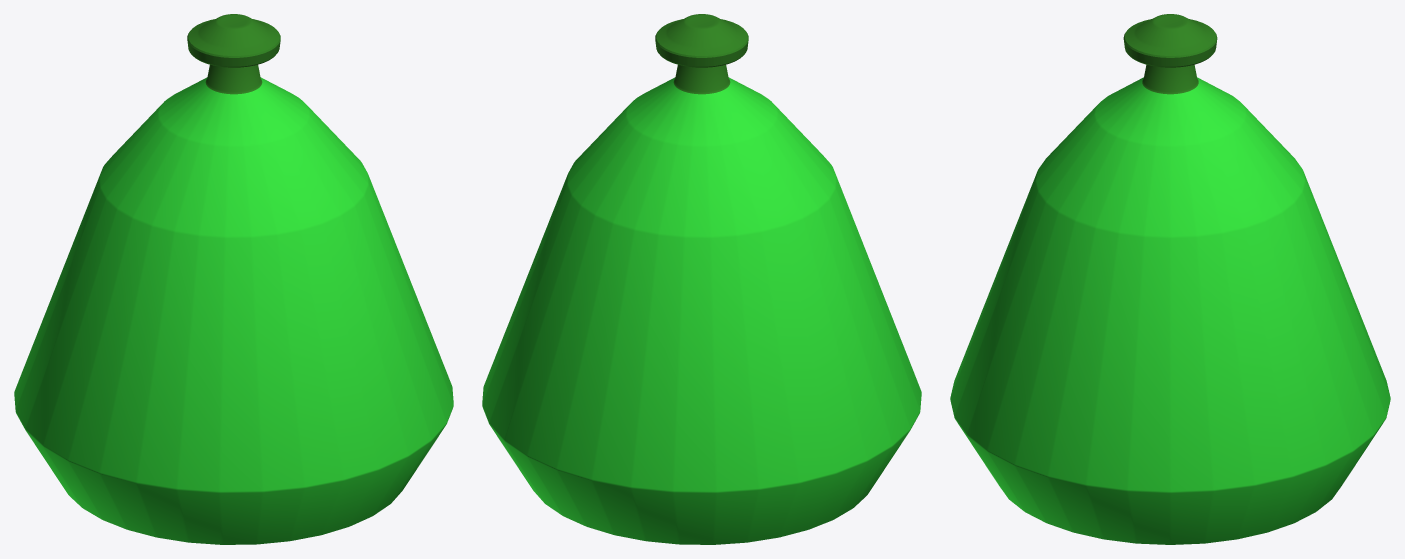
File: bottle6.glb
The picture shows the model from 3 angles, left to right: view 1: azimuth 30°, elevation 25°; view 2: azimuth 150°, elevation 25°; view 3: azimuth 270°, elevation 25°; orthographic projection.
Parts seen in each view (by area): view 1: Bottle6; view 2: Bottle6; view 3: Bottle6.
Part boxes in pixels (box(x1,y1,x2,y2)): Bottle6: box(14, 14, 453, 544); Bottle6: box(482, 14, 921, 544); Bottle6: box(950, 14, 1390, 544).
Size of the model in its own units: 0.6484 by 0.7315 by 0.6484.
